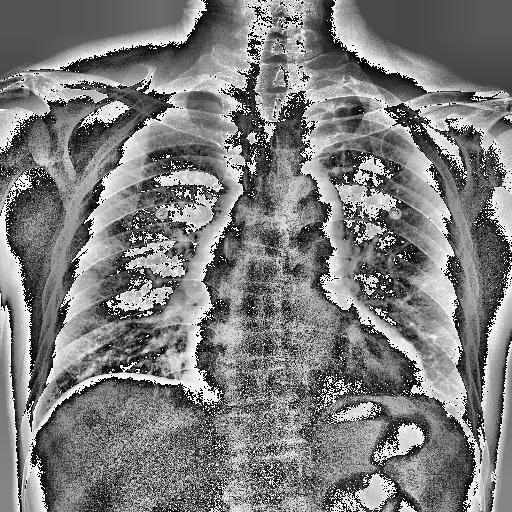0- Aortic enlargement: (270, 173, 346, 249), (276, 176, 344, 256), (272, 176, 344, 242)
11- Pleural thickening: (304, 85, 394, 129), (310, 90, 392, 112), (312, 92, 390, 114)
13- Pulmonary fibrosis: (345, 232, 414, 274)
3- Cardiomegaly: (184, 312, 424, 400), (183, 336, 433, 412), (184, 335, 430, 409)
5- ILD: (54, 154, 213, 387), (336, 154, 464, 406)
